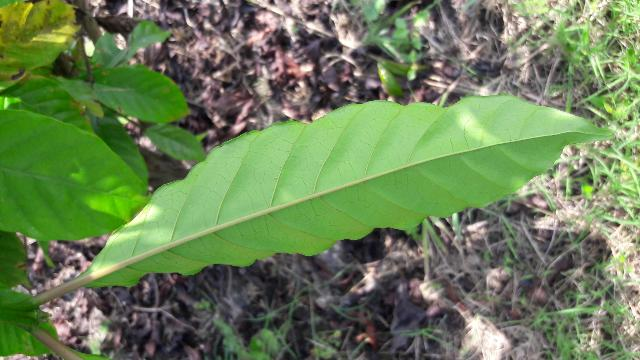healthy: (57, 96, 617, 289)
